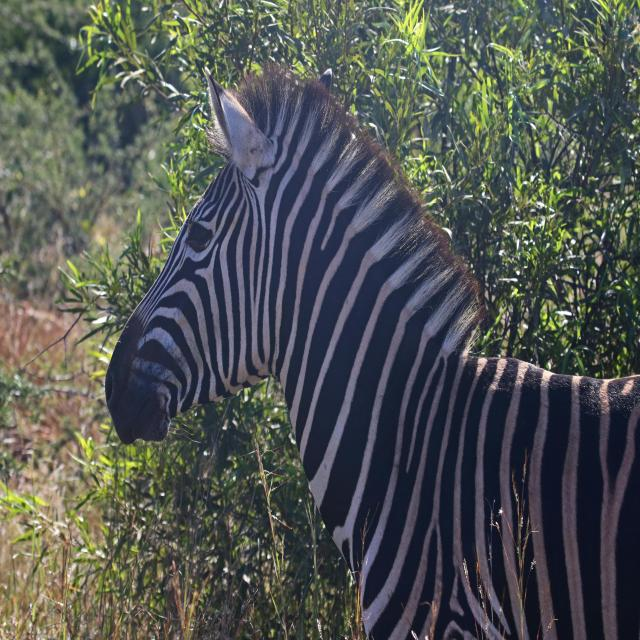Zebra: (106, 65, 640, 640)
